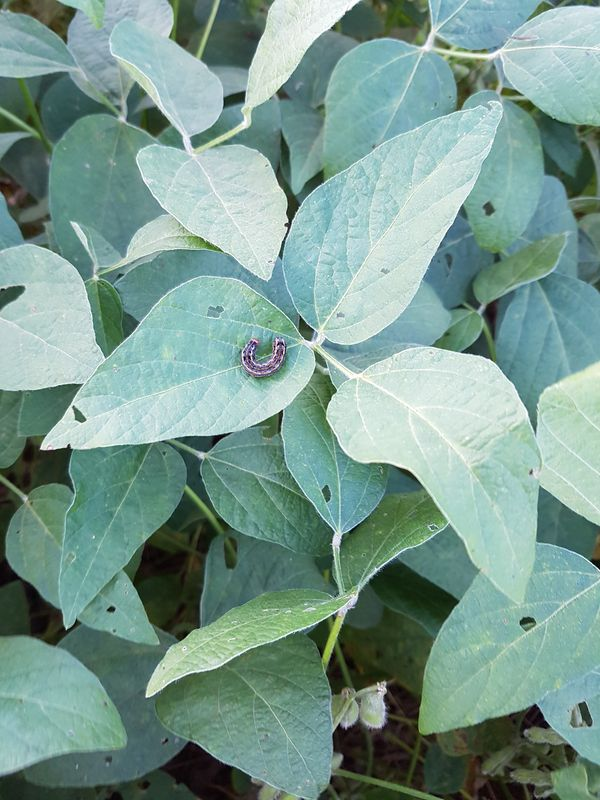Spodoptera_albula: (229, 330, 292, 385)
